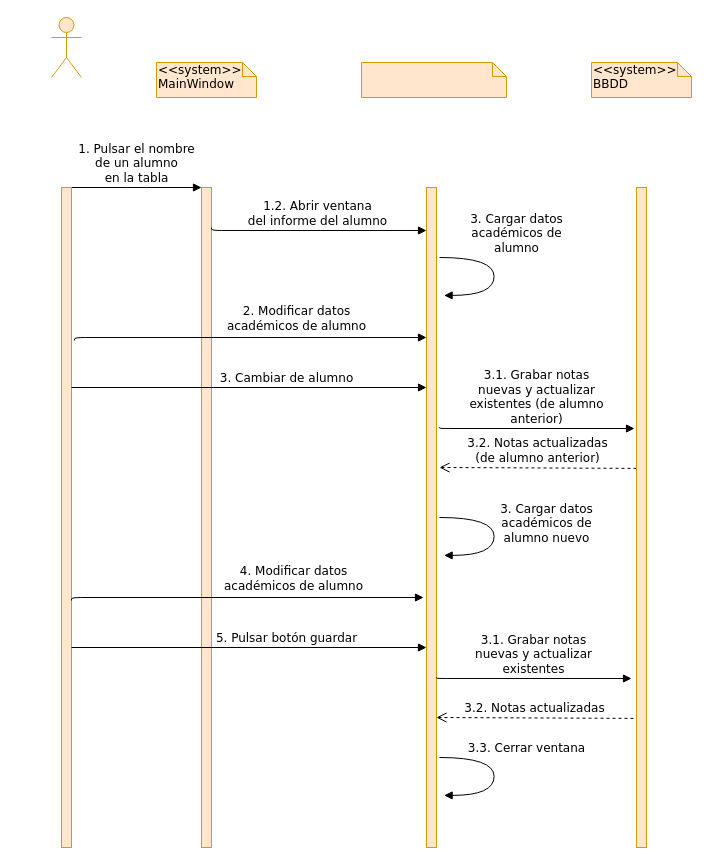
The diagram is 709 pixels wide and 865 high, and some of its shapes have lost their labels. The shapes that lost their labels are listed below. From the top down, each one's centre as x and y in pixels, then its label:
At point 66,47: "<<user>> Maestro".
At point 433,80: "<<system>> InformeAlumnoWindow".
